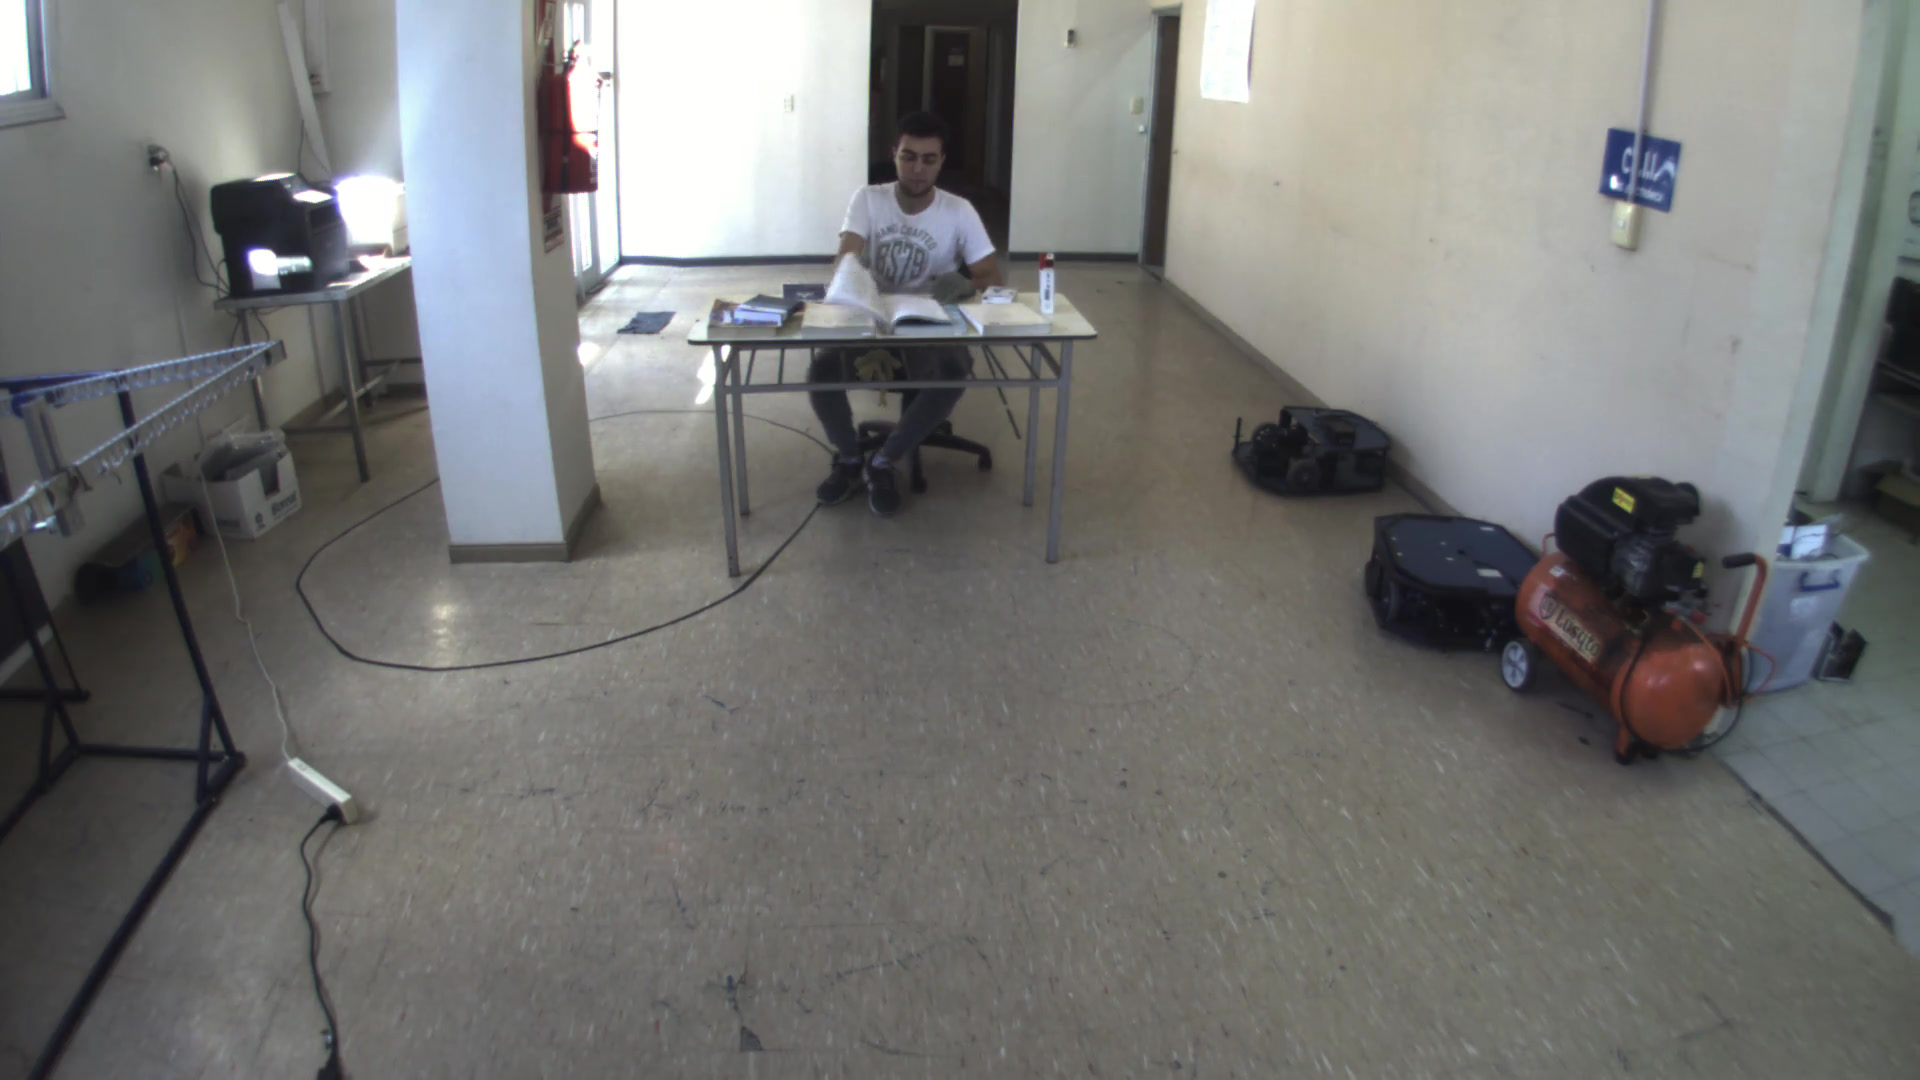hand: (928, 269, 978, 302)
